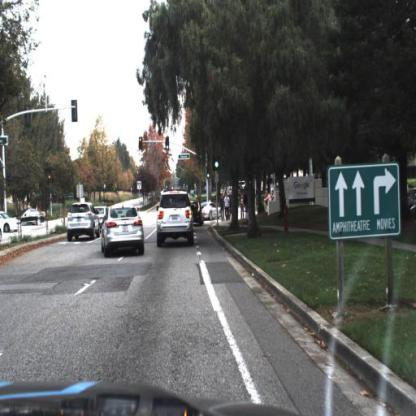car: (100, 205, 146, 256), (156, 191, 193, 245), (66, 203, 100, 239), (21, 208, 49, 226), (1, 209, 23, 230), (202, 201, 223, 219), (192, 199, 204, 227)
pedestrian: (223, 192, 230, 221)
trafficLight-Green: (164, 136, 172, 153)
trafficLight-RedLeft: (138, 135, 145, 153)
